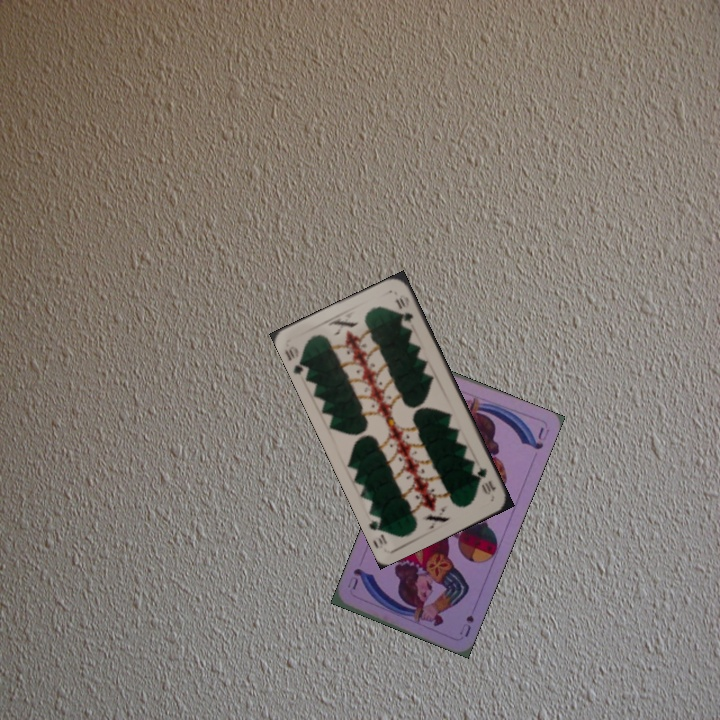G10: (281, 341, 312, 378), (473, 462, 499, 498)
SU: (455, 611, 477, 640)
